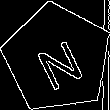N_NW: (29, 27, 86, 89)
